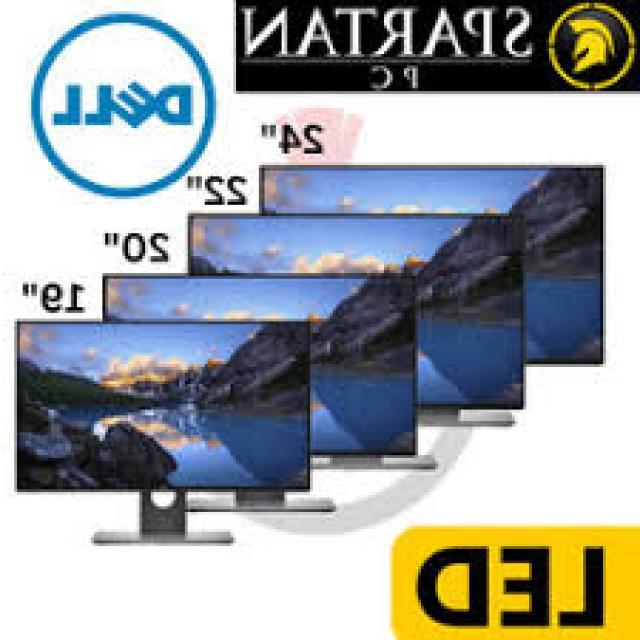monitor: (0, 316, 334, 552)
